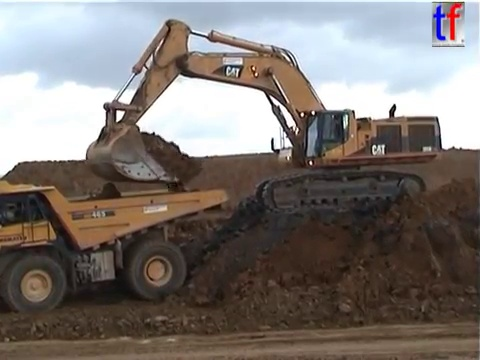excavator: (83, 16, 445, 214)
truck: (1, 177, 230, 317)
